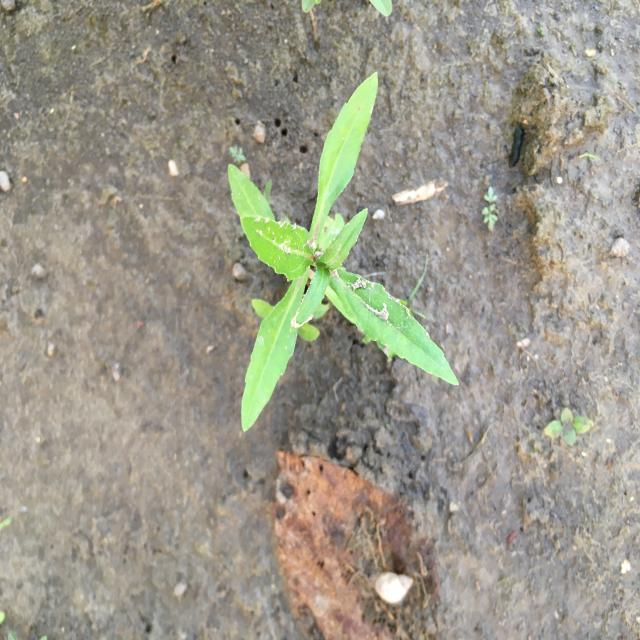Eclipta: (226, 70, 461, 434)
